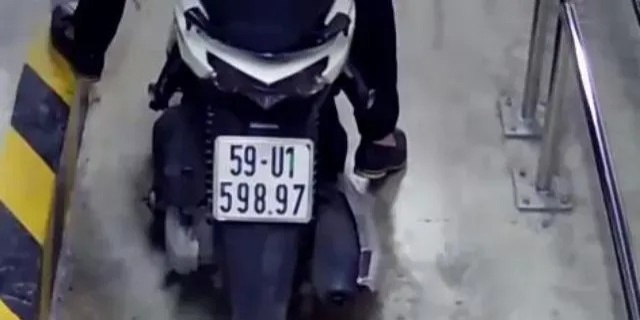bien_so: (215, 135, 313, 223)
